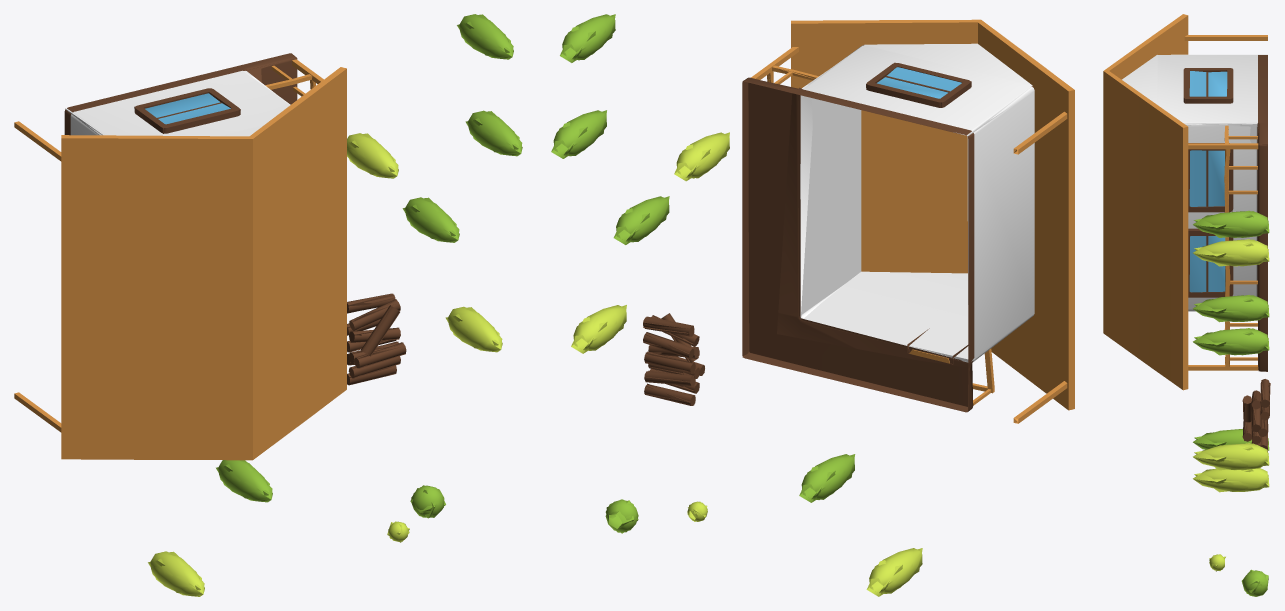
File: Simple_House_02.fbx
3 renders of one model, left to right at view 1: azimuth 30°, elevation 25°; view 2: azimuth 150°, elevation 25°; view 3: azimuth 270°, elevation 25°, orthographic. The views are drawn at different scales.
Visible parts, largest first — view 1: Simple_House_02_LOD1, Simple_House_02_LOD2, Simple_House_02_LOD3; view 2: Simple_House_02_LOD1, Simple_House_02_LOD3, Simple_House_02_LOD2; view 3: Simple_House_02_LOD1, Simple_House_02_LOD2, Simple_House_02_LOD3.
Part boxes in pixels (x1,y1,x2,y2): Simple_House_02_LOD1: [14, 14, 522, 596]; Simple_House_02_LOD2: [61, 14, 522, 594]; Simple_House_02_LOD3: [145, 14, 519, 593]; Simple_House_02_LOD1: [553, 14, 1074, 593]; Simple_House_02_LOD3: [551, 14, 1062, 596]; Simple_House_02_LOD2: [554, 14, 1074, 593]; Simple_House_02_LOD1: [1103, 14, 1269, 596]; Simple_House_02_LOD2: [1106, 15, 1269, 595]; Simple_House_02_LOD3: [1108, 28, 1270, 593].
Size of the model in its own units: 183 by 186 by 67.36.
